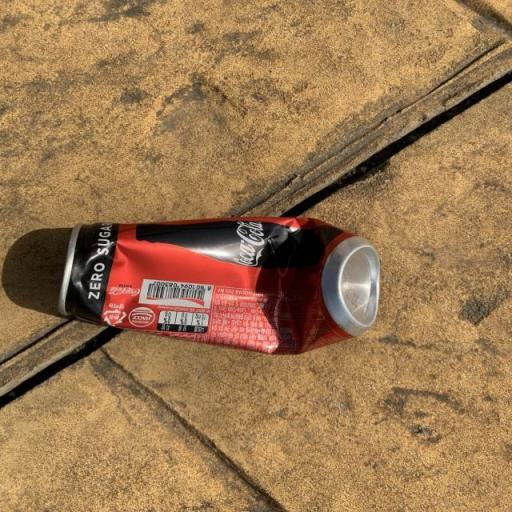metal: (22, 192, 404, 376)
